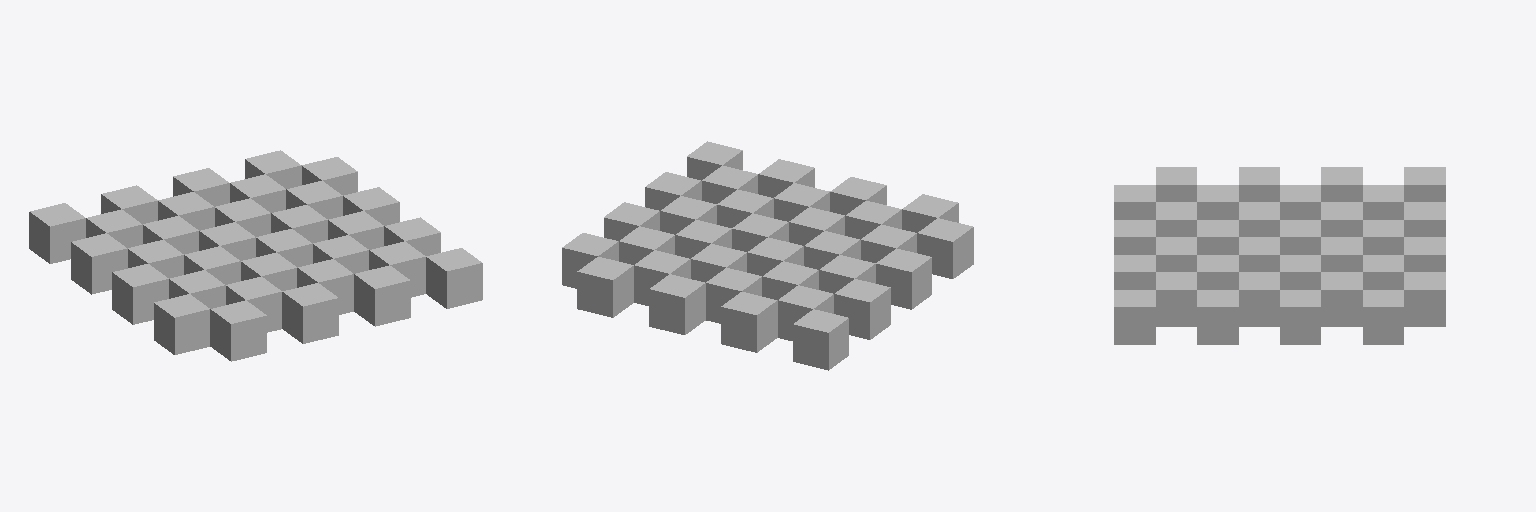
The model's file is boardBlocks.obj.
3 views of the same model, side by side, from view 1: azimuth 30°, elevation 25°; view 2: azimuth 150°, elevation 25°; view 3: azimuth 270°, elevation 25° (orthographic).
Visible parts, largest first — view 1: group2 pasted__pCube9, group2 pasted__pCube11, group2 pasted__pCube12, group2 pasted__pCube10, pasted__pCube5 group2, pCube5, pasted__pCube5 group1, pasted__pCube5 group, group2 pasted__pCube7, group2 pasted__pCube8, group2 pasted__pCube6, group pasted__pCube8 (+20 smaller); view 2: pCube6, pCube8, pCube7, pCube5, pasted__pCube5 group, pasted__pCube5 group2, pasted__pCube5 group1, pCube11, pCube12, pCube9, pCube10, group pasted__pCube6 (+20 smaller); view 3: pCube8, group pasted__pCube8, group1 pasted__pCube12, group2 pasted__pCube12, pCube12, group pasted__pCube12, group1 pasted__pCube8, group2 pasted__pCube8, pCube5, pCube6, pCube7, pasted__pCube5 group (+20 smaller).
Part boxes in pixels (x1,y1,x2,y2): group2 pasted__pCube9: (210, 300, 266, 361); group2 pasted__pCube11: (354, 265, 410, 326); group2 pasted__pCube12: (426, 248, 482, 308); group2 pasted__pCube10: (282, 283, 338, 343); pasted__pCube5 group2: (154, 294, 209, 354); pCube5: (29, 203, 85, 263); pasted__pCube5 group1: (112, 264, 168, 324); pasted__pCube5 group: (71, 233, 127, 294); group2 pasted__pCube7: (297, 259, 353, 314); group2 pasted__pCube8: (369, 241, 425, 297); group2 pasted__pCube6: (226, 276, 281, 332); group pasted__pCube8: (286, 181, 342, 219); pCube6: (721, 292, 777, 352); pCube8: (577, 257, 633, 317); pCube7: (649, 274, 705, 334); pCube5: (793, 309, 848, 370); pasted__pCube5 group: (834, 279, 890, 339); pasted__pCube5 group2: (917, 218, 973, 278); pasted__pCube5 group1: (876, 248, 931, 309); pCube11: (634, 250, 690, 305); pCube12: (562, 233, 618, 288); pCube9: (778, 285, 833, 340); pCube10: (706, 268, 761, 323); group pasted__pCube6: (762, 261, 818, 299); pCube8: (1404, 272, 1445, 326); group pasted__pCube8: (1321, 272, 1362, 326); group1 pasted__pCube12: (1197, 290, 1238, 344); group2 pasted__pCube12: (1114, 290, 1155, 344); pCube12: (1363, 290, 1403, 344); group pasted__pCube12: (1280, 290, 1320, 344); group1 pasted__pCube8: (1239, 272, 1279, 326); group2 pasted__pCube8: (1156, 272, 1196, 326); pCube5: (1404, 167, 1445, 201); pCube6: (1404, 202, 1445, 236); pCube7: (1404, 237, 1445, 271); pasted__pCube5 group: (1321, 167, 1362, 201).
Bounding box in the file's own units: 8 × 1 × 8.